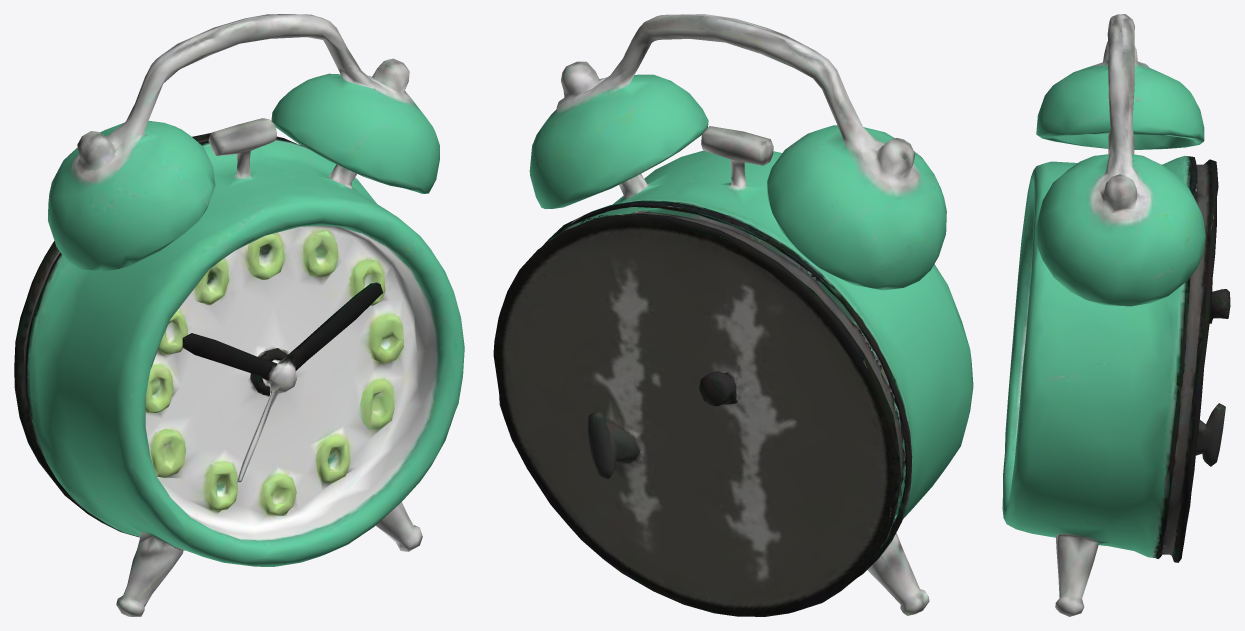
File: clock.glb
3 views of the same model, side by side, from view 1: azimuth 30°, elevation 25°; view 2: azimuth 150°, elevation 25°; view 3: azimuth 270°, elevation 25° (orthographic). The views are drawn at different scales.
Bounding box in the file's own units: 0.7372 × 1.01 × 0.4022.
1 material, 1 textured.
